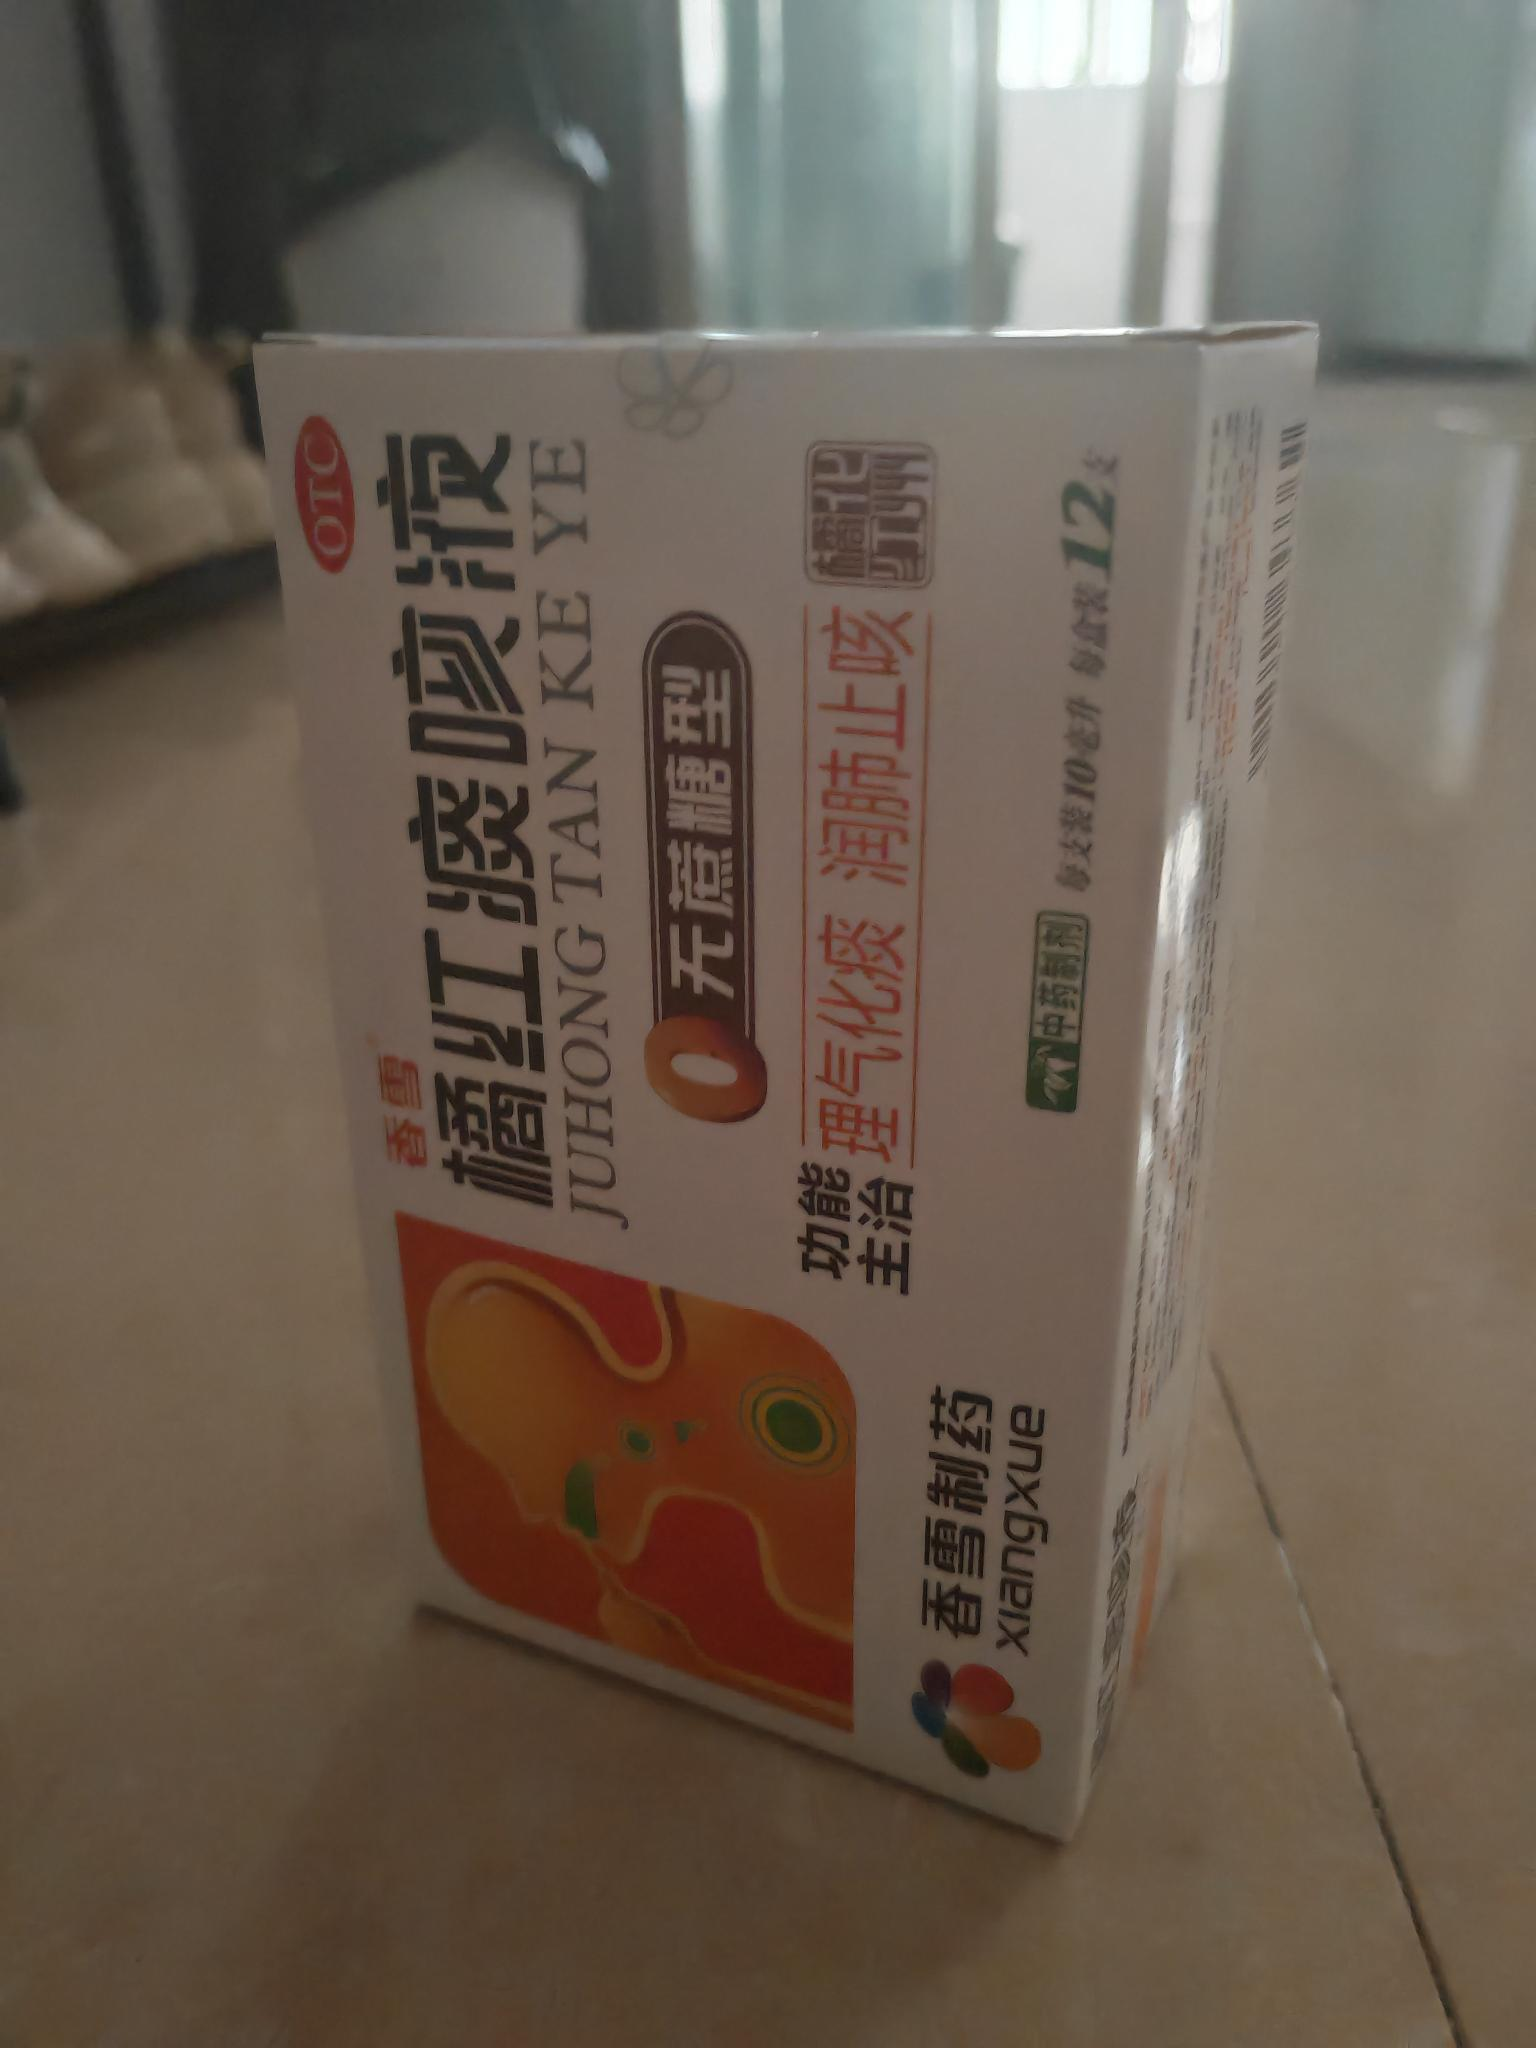Medicine1: (240, 295, 1352, 1882)
